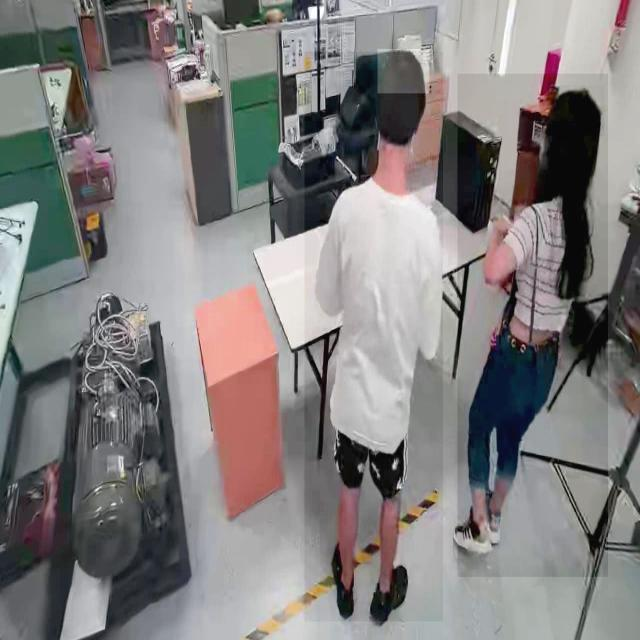head_nohelmet: (547, 85, 605, 137), (377, 49, 429, 94)
person: (304, 52, 443, 622), (457, 74, 608, 578)
shoes: (368, 554, 409, 627), (451, 504, 495, 565), (328, 536, 359, 622), (479, 483, 505, 541)
